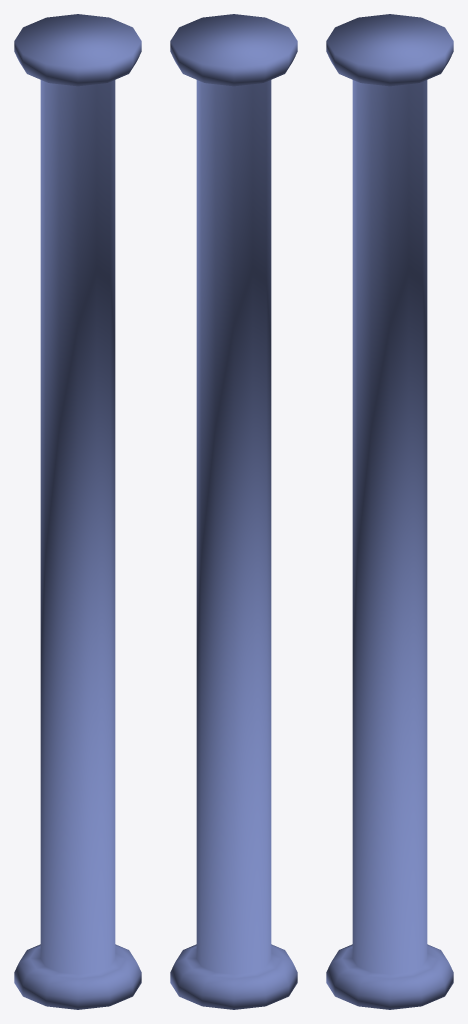
File: Pillar.fbx
3 renders of one model, left to right at view 1: azimuth 90°, elevation 25°; view 2: azimuth 150°, elevation 25°; view 3: azimuth 270°, elevation 25°, orthographic.
Parts seen in each view (by area): view 1: Pillar; view 2: Pillar; view 3: Pillar.
Part boxes in pixels (x1,y1,x2,y2): Pillar: [14, 14, 141, 1009]; Pillar: [170, 14, 297, 1009]; Pillar: [326, 14, 453, 1009].
Size of the model in its own units: 96.51 by 790 by 96.51.
Materials: 1 (1 with a texture image).
